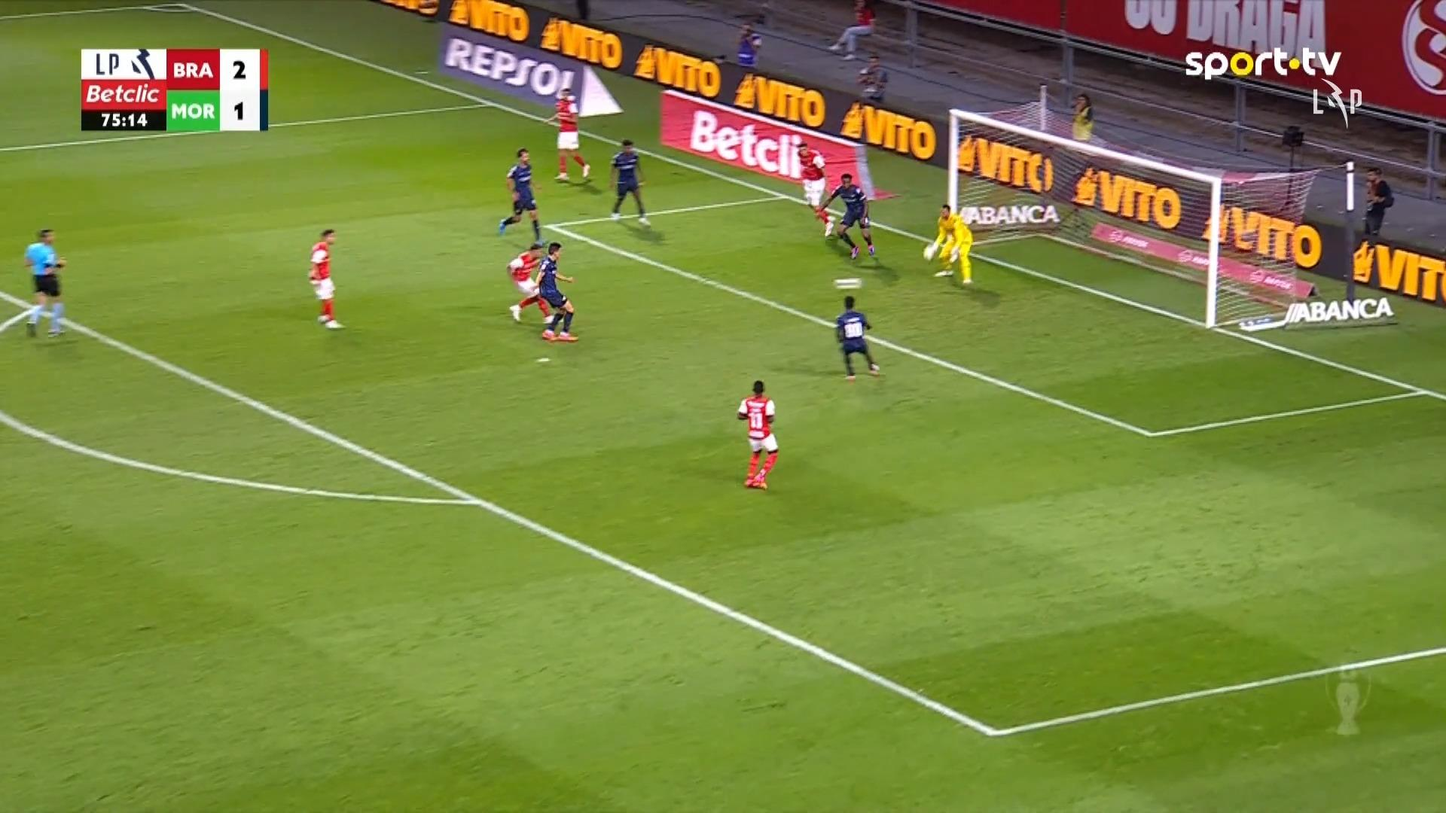ball: (832, 276, 862, 290)
goalkeeper: (923, 203, 974, 286)
player: (816, 171, 877, 260), (496, 147, 544, 247), (542, 85, 591, 182), (736, 379, 779, 489), (534, 241, 578, 341), (505, 239, 555, 324), (833, 294, 880, 380), (795, 140, 836, 237), (607, 138, 651, 227), (307, 227, 345, 329)
referee: (22, 227, 68, 337)
